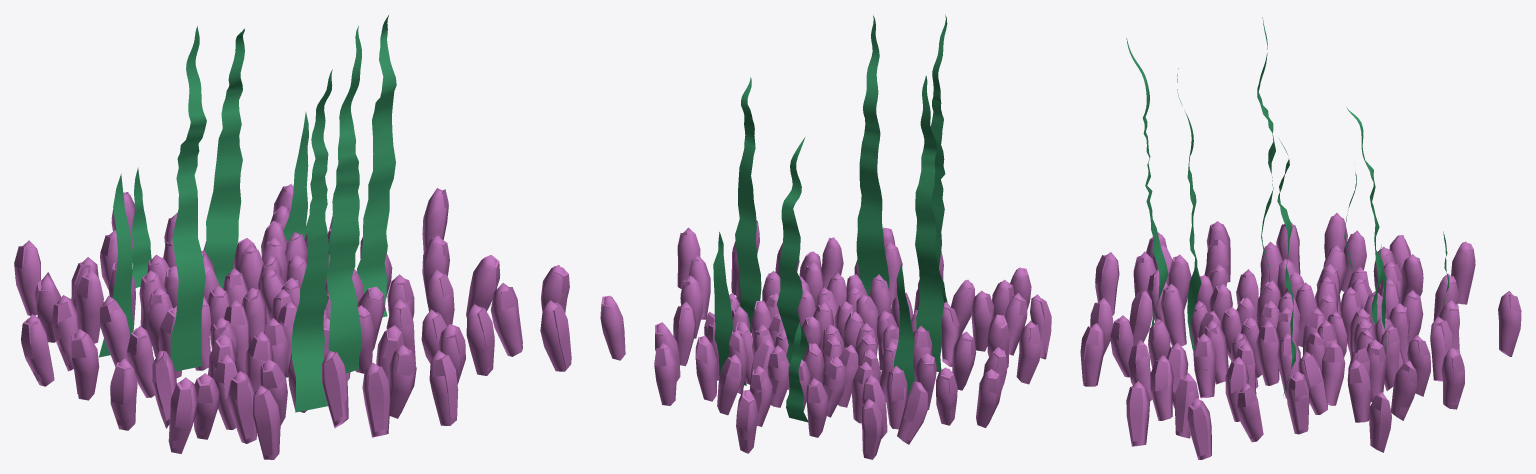
File: coral_symbiosis_B_dense.fbx
3 views of the same model, side by side, from view 1: azimuth 30°, elevation 25°; view 2: azimuth 150°, elevation 25°; view 3: azimuth 270°, elevation 25° (orthographic). The views are drawn at different scales.
Parts seen in each view (by area): view 1: coral_symbiosis_B_buds_soft, coral_symbiosis_B_buds_hard, coral_symbiosis_B_kelp_B, coral_symbiosis_B_kelp_C, coral_symbiosis_B_kelp_A, coral_symbiosis_B_kelp_E, coral_symbiosis_B_kelp_D, coral_symbiosis_B_kelp_F, coral_symbiosis_B_kelp_G, coral_symbiosis_B_kelp_H; view 2: coral_symbiosis_B_buds_soft, coral_symbiosis_B_buds_hard, coral_symbiosis_B_kelp_B, coral_symbiosis_B_kelp_C, coral_symbiosis_B_kelp_D, coral_symbiosis_B_kelp_E, coral_symbiosis_B_kelp_A, coral_symbiosis_B_kelp_G, coral_symbiosis_B_kelp_F, coral_symbiosis_B_kelp_H; view 3: coral_symbiosis_B_buds_soft, coral_symbiosis_B_buds_hard, coral_symbiosis_B_kelp_A, coral_symbiosis_B_kelp_B, coral_symbiosis_B_kelp_E, coral_symbiosis_B_kelp_D, coral_symbiosis_B_kelp_C.
Boxes of the visible parts, x1,y1,x2,y2 form: coral_symbiosis_B_buds_soft: [14, 184, 571, 459]; coral_symbiosis_B_buds_hard: [14, 186, 571, 455]; coral_symbiosis_B_kelp_B: [327, 25, 362, 373]; coral_symbiosis_B_kelp_C: [170, 26, 206, 371]; coral_symbiosis_B_kelp_A: [291, 69, 332, 412]; coral_symbiosis_B_kelp_E: [204, 28, 244, 288]; coral_symbiosis_B_kelp_D: [357, 15, 396, 316]; coral_symbiosis_B_kelp_F: [99, 173, 133, 357]; coral_symbiosis_B_kelp_G: [283, 111, 308, 242]; coral_symbiosis_B_kelp_H: [132, 167, 151, 287]; coral_symbiosis_B_buds_soft: [601, 220, 1046, 459]; coral_symbiosis_B_buds_hard: [600, 227, 1051, 456]; coral_symbiosis_B_kelp_B: [856, 15, 889, 296]; coral_symbiosis_B_kelp_C: [915, 75, 944, 371]; coral_symbiosis_B_kelp_D: [735, 77, 761, 333]; coral_symbiosis_B_kelp_E: [776, 137, 808, 364]; coral_symbiosis_B_kelp_A: [930, 14, 947, 302]; coral_symbiosis_B_kelp_G: [713, 232, 746, 385]; coral_symbiosis_B_kelp_F: [893, 263, 914, 395]; coral_symbiosis_B_kelp_H: [786, 322, 808, 422]; coral_symbiosis_B_buds_soft: [1083, 213, 1520, 459]; coral_symbiosis_B_buds_hard: [1080, 216, 1521, 456]; coral_symbiosis_B_kelp_A: [1126, 38, 1168, 326]; coral_symbiosis_B_kelp_B: [1177, 68, 1201, 351]; coral_symbiosis_B_kelp_E: [1346, 107, 1383, 324]; coral_symbiosis_B_kelp_D: [1277, 137, 1296, 395]; coral_symbiosis_B_kelp_C: [1257, 17, 1275, 281].
Size of the model in its own units: 131 by 102 by 126.
